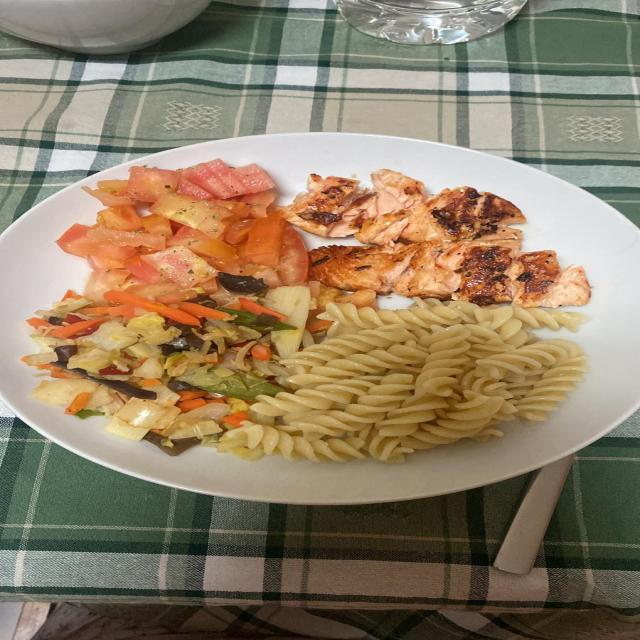pasta: (218, 300, 585, 461)
plate: (0, 133, 639, 504)
salmon: (281, 169, 590, 307)
vegetables: (23, 159, 315, 447)
